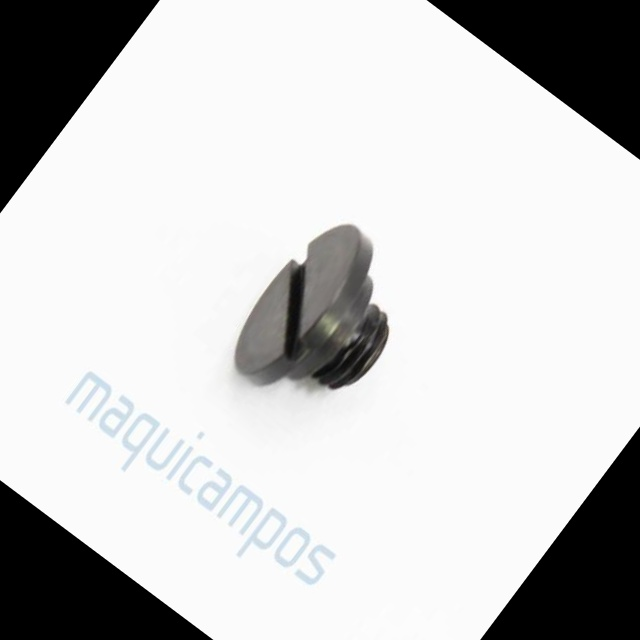duz: (212, 202, 395, 409)
